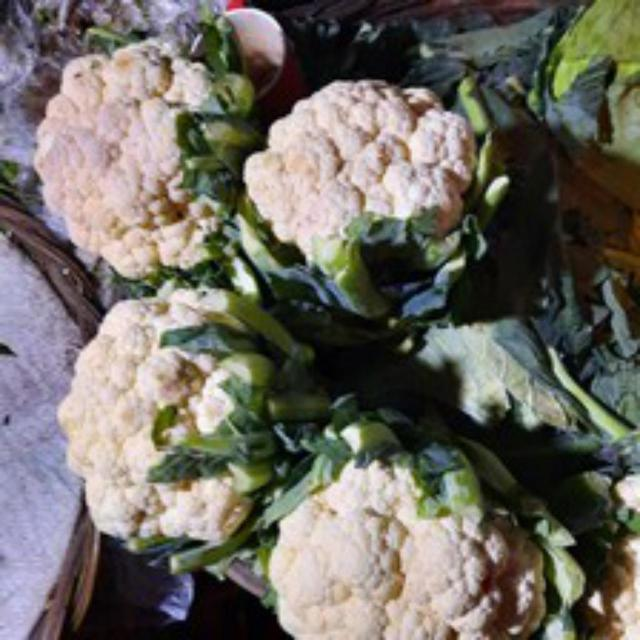cauliflower: (263, 449, 580, 636), (35, 32, 254, 286), (59, 274, 260, 544), (244, 82, 480, 264)
